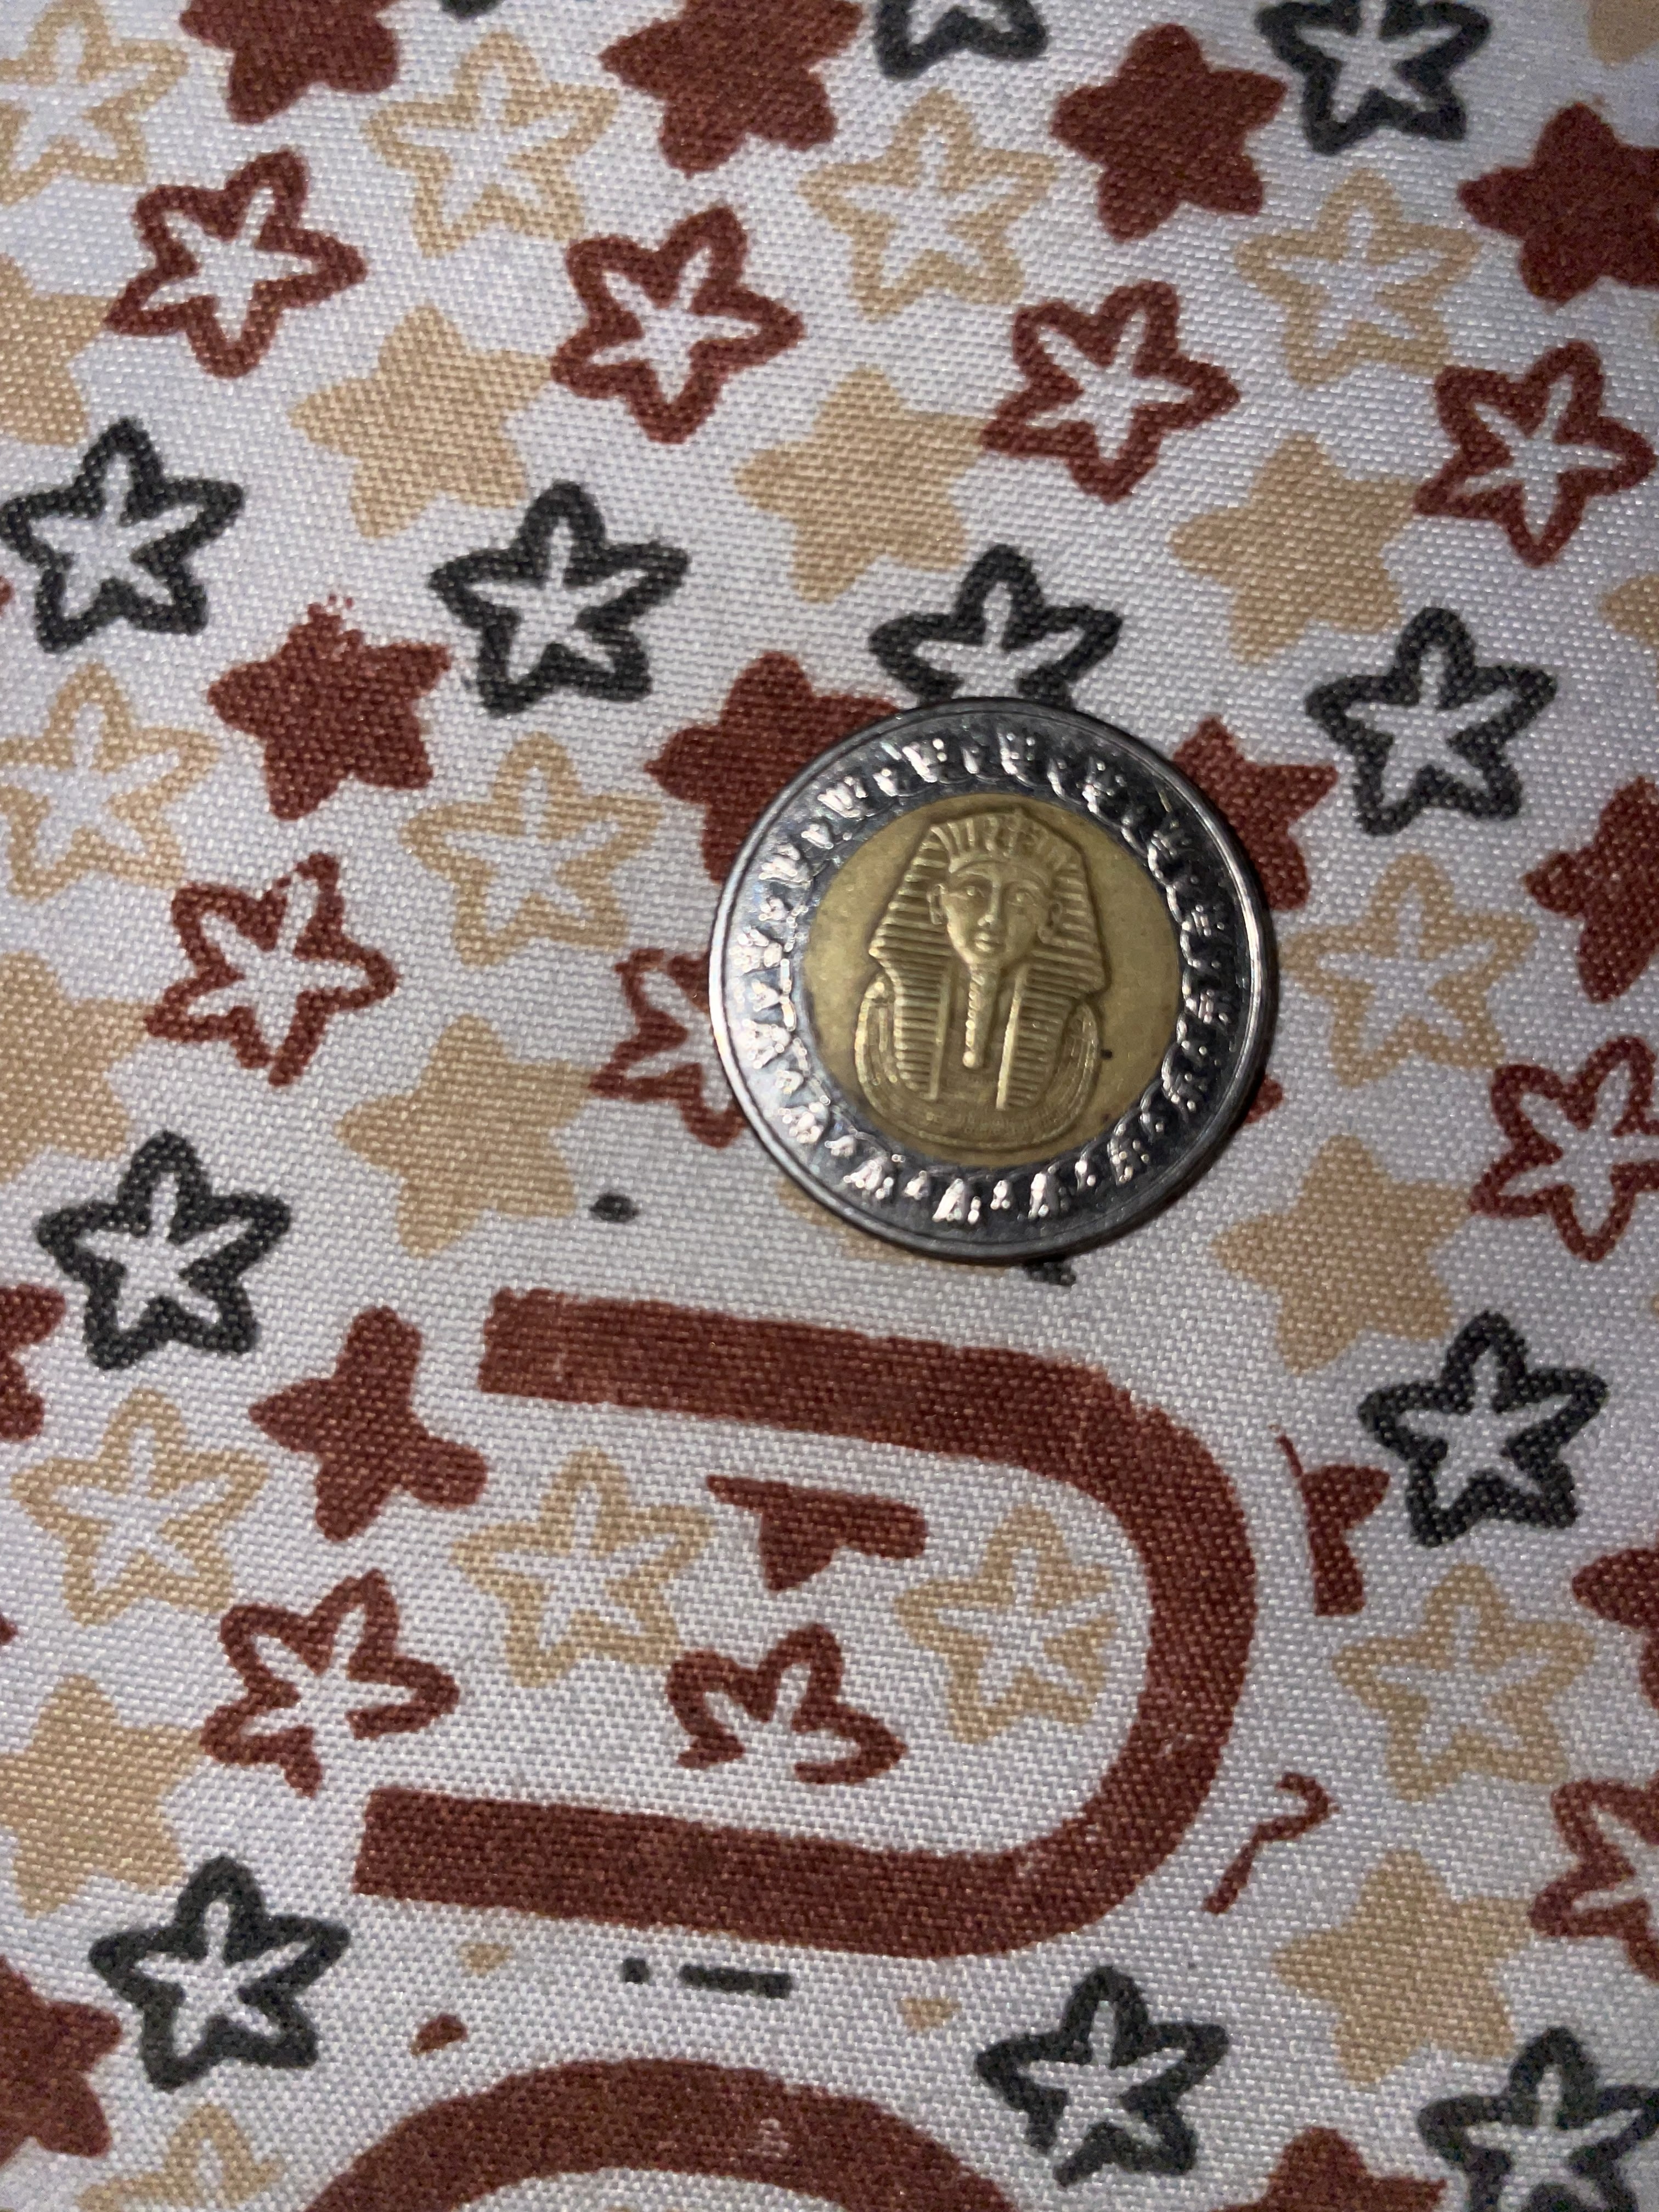one: (690, 693, 1290, 1256)
